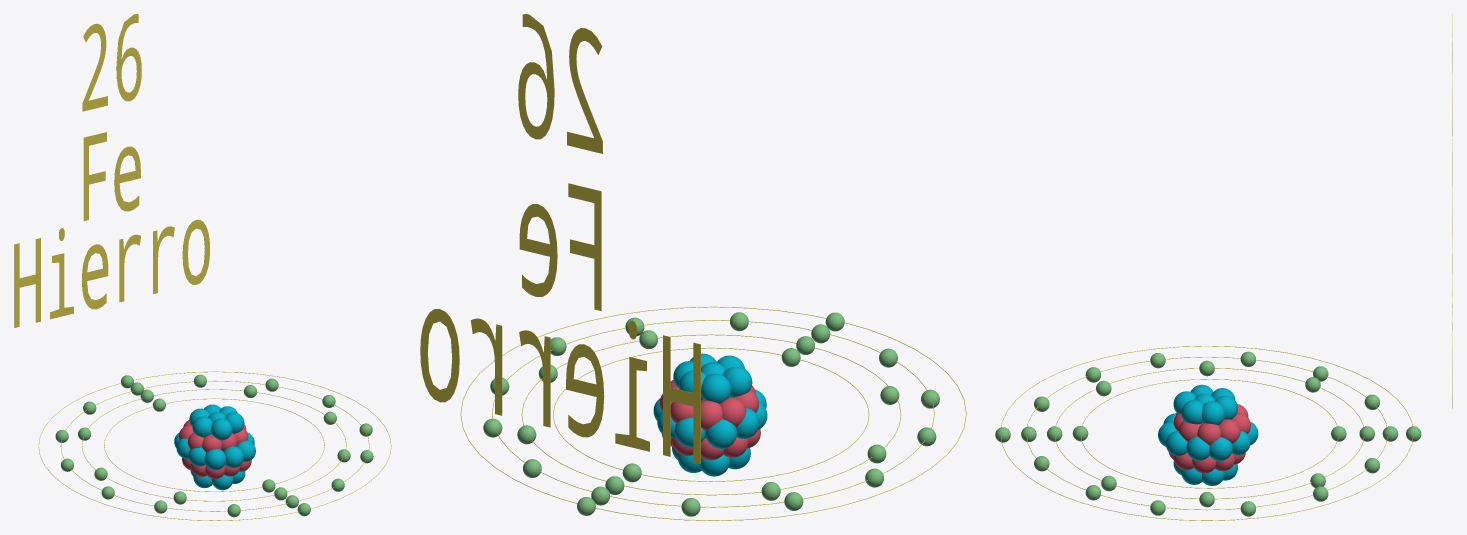
Rendered from 26-HIERRO-ANDROID.glb.
The picture shows the model from 3 angles, left to right: view 1: azimuth 30°, elevation 25°; view 2: azimuth 150°, elevation 25°; view 3: azimuth 270°, elevation 25°; orthographic projection. The views are drawn at different scales.
Visible parts, largest first — view 1: Mesh_Mesh_head_geo.001_lambert2SG.001; view 2: Mesh_Mesh_head_geo.001_lambert2SG.001; view 3: Mesh_Mesh_head_geo.001_lambert2SG.001.
Part boxes in pixels (left/top/right/bottom): Mesh_Mesh_head_geo.001_lambert2SG.001: left=14, top=14, right=391, bottom=520; Mesh_Mesh_head_geo.001_lambert2SG.001: left=420, top=14, right=966, bottom=520; Mesh_Mesh_head_geo.001_lambert2SG.001: left=995, top=14, right=1452, bottom=520.
Size of the model in its own units: 160 by 193 by 177.
